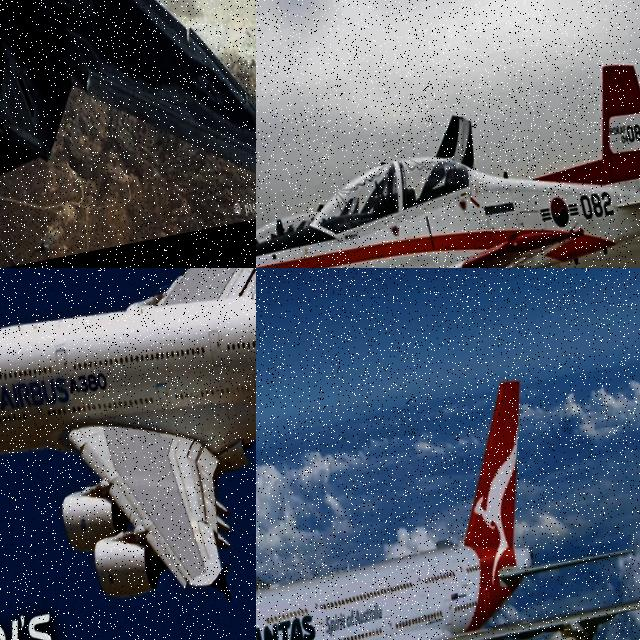A380: (256, 342, 640, 640), (0, 268, 256, 635)
F22: (0, 0, 256, 268)
KT-1: (256, 43, 640, 268)
